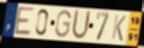0: (35, 8, 49, 37)
7: (95, 11, 111, 42)
E: (13, 6, 35, 37)
G: (54, 9, 72, 39)
K: (111, 14, 128, 43)
U: (70, 9, 92, 42)
